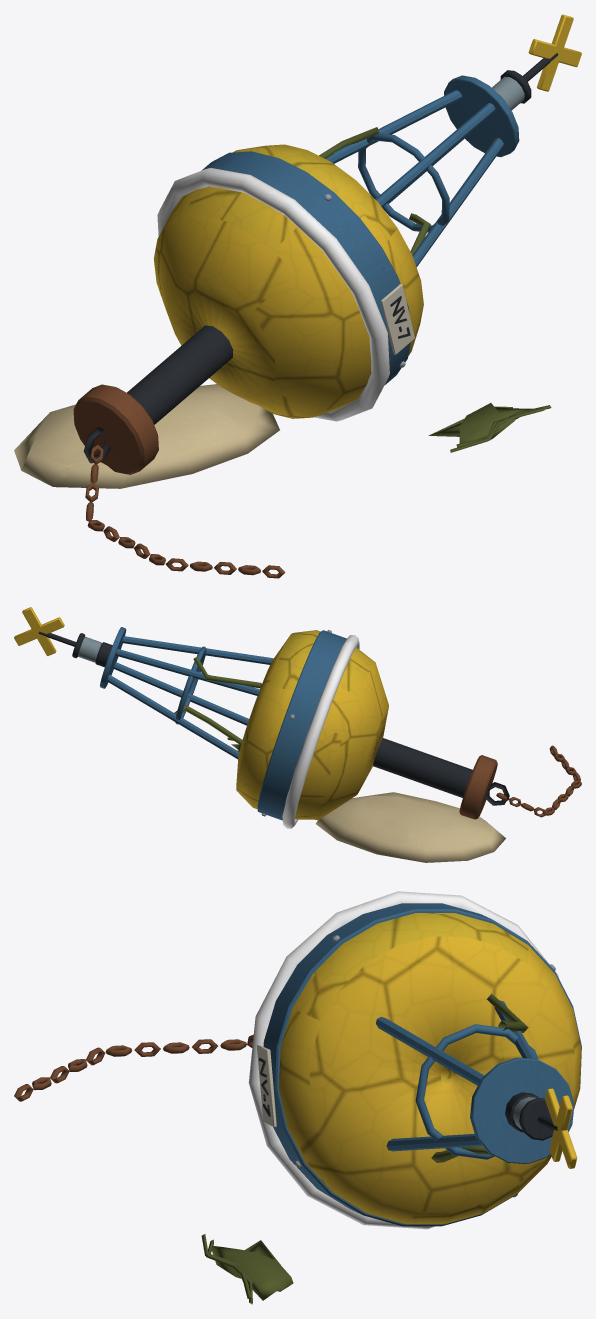
The model's file is buoy_beached.glb.
3 views of the same model, one above another, from view 1: azimuth 30°, elevation 25°; view 2: azimuth 150°, elevation 25°; view 3: azimuth 270°, elevation 25° (orthographic). The views are drawn at different scales.
Visible parts, largest first — view 1: buoy_beached; view 2: buoy_beached; view 3: buoy_beached.
Boxes of the visible parts, box(x1,y1,x2,y2) form: buoy_beached: box(14, 14, 581, 578); buoy_beached: box(14, 607, 581, 862); buoy_beached: box(14, 891, 581, 1304).
Bounding box in the file's own units: 4.71 × 1.93 × 3.17.
14 materials, 14 textured.
